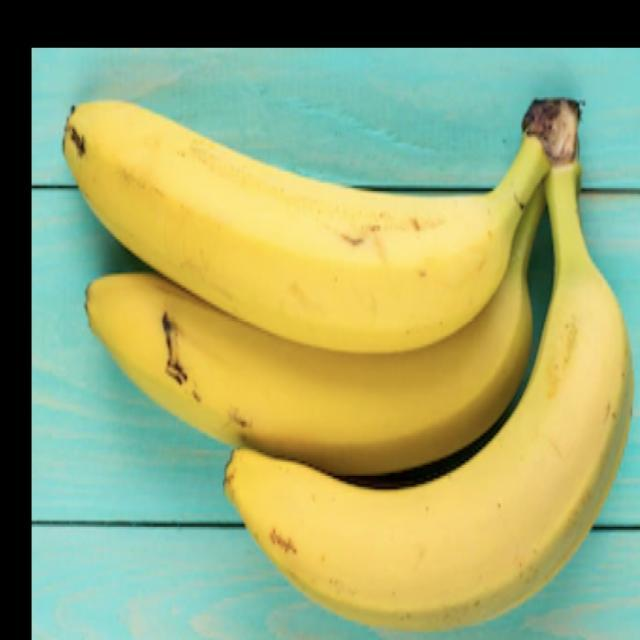Banana: (222, 97, 633, 633), (61, 96, 555, 355)
